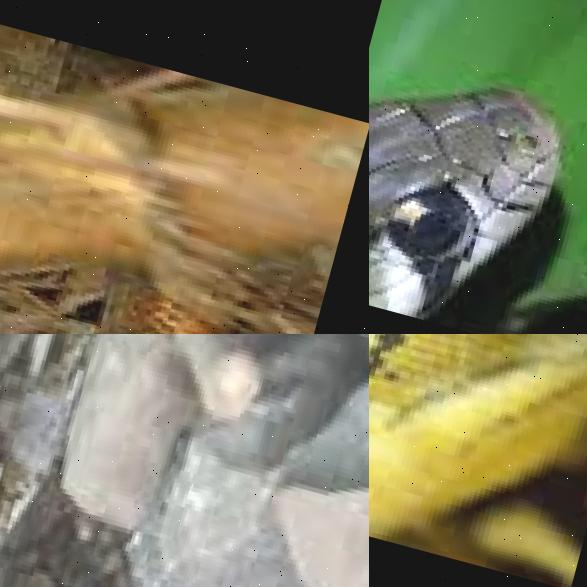snake: (0, 0, 369, 334), (0, 334, 292, 587), (369, 0, 587, 334), (369, 334, 587, 570)
